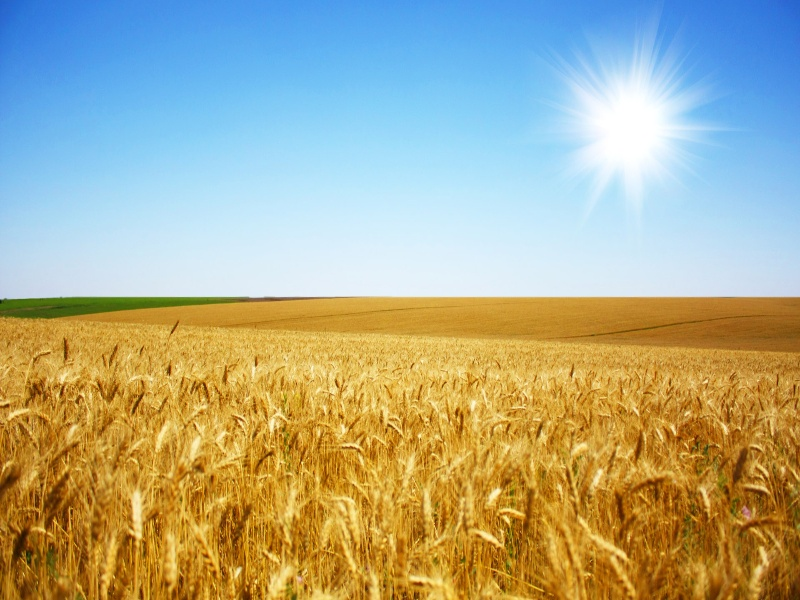wheat: (4, 326, 273, 583), (600, 353, 795, 551), (372, 367, 683, 442), (462, 473, 545, 584), (603, 422, 648, 518), (588, 541, 655, 598)
